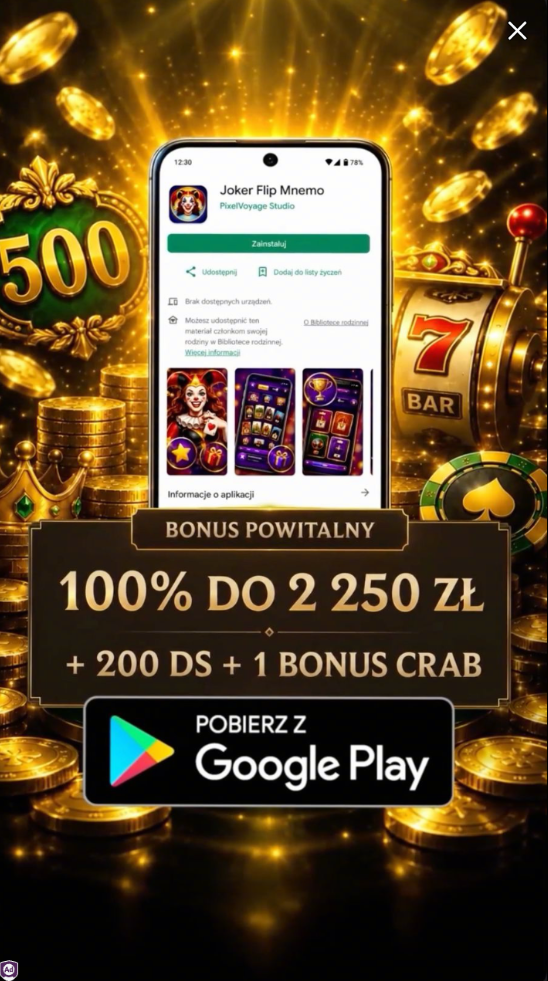close_button: (503, 13, 530, 46)
